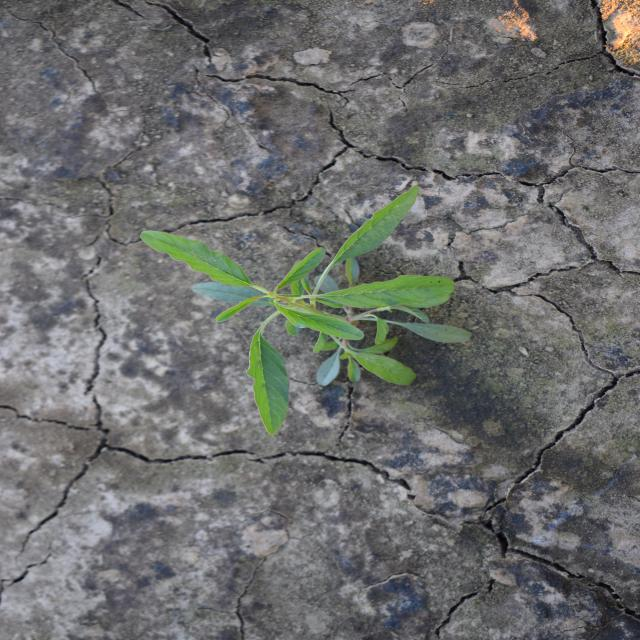Waterhemp: (138, 183, 476, 436)
